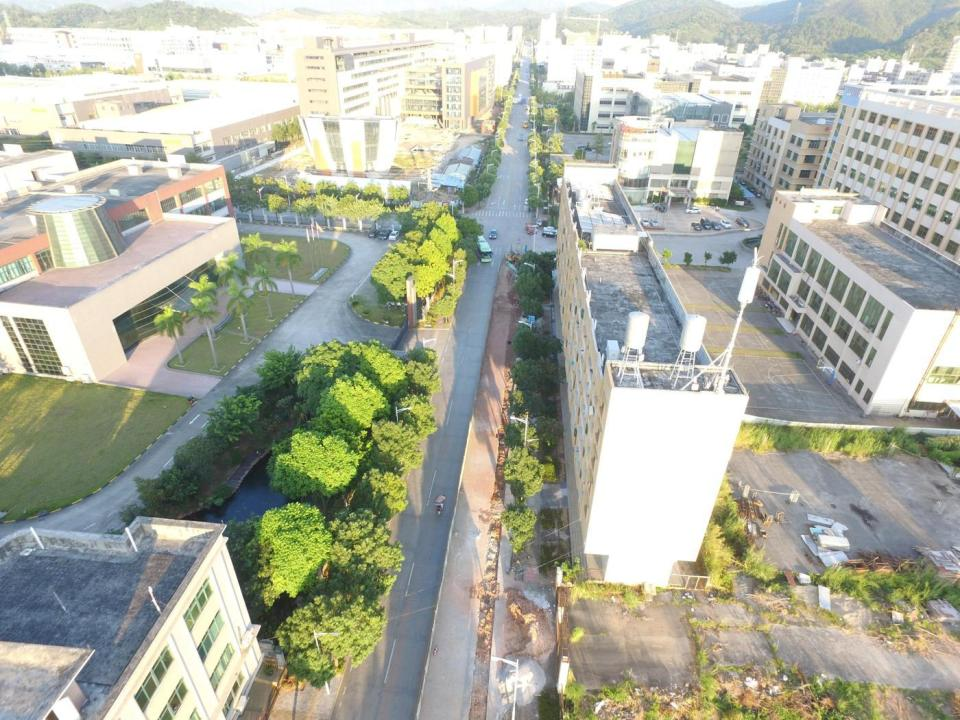bus: (469, 232, 494, 263), (523, 120, 528, 128)
car: (685, 206, 702, 214), (389, 230, 400, 241), (542, 231, 559, 238), (543, 226, 560, 233), (379, 230, 390, 240), (489, 229, 498, 240), (691, 221, 702, 230), (640, 218, 650, 227), (649, 218, 659, 227), (655, 205, 666, 213), (720, 220, 731, 228), (710, 222, 722, 229), (765, 202, 775, 209), (536, 219, 543, 226), (524, 198, 530, 205), (608, 142, 616, 146)
truck: (525, 222, 535, 235), (509, 98, 526, 105), (518, 133, 524, 141)
van: (700, 217, 712, 230), (736, 217, 749, 228), (368, 228, 380, 239), (753, 190, 762, 197), (746, 186, 755, 193), (737, 180, 746, 185)
